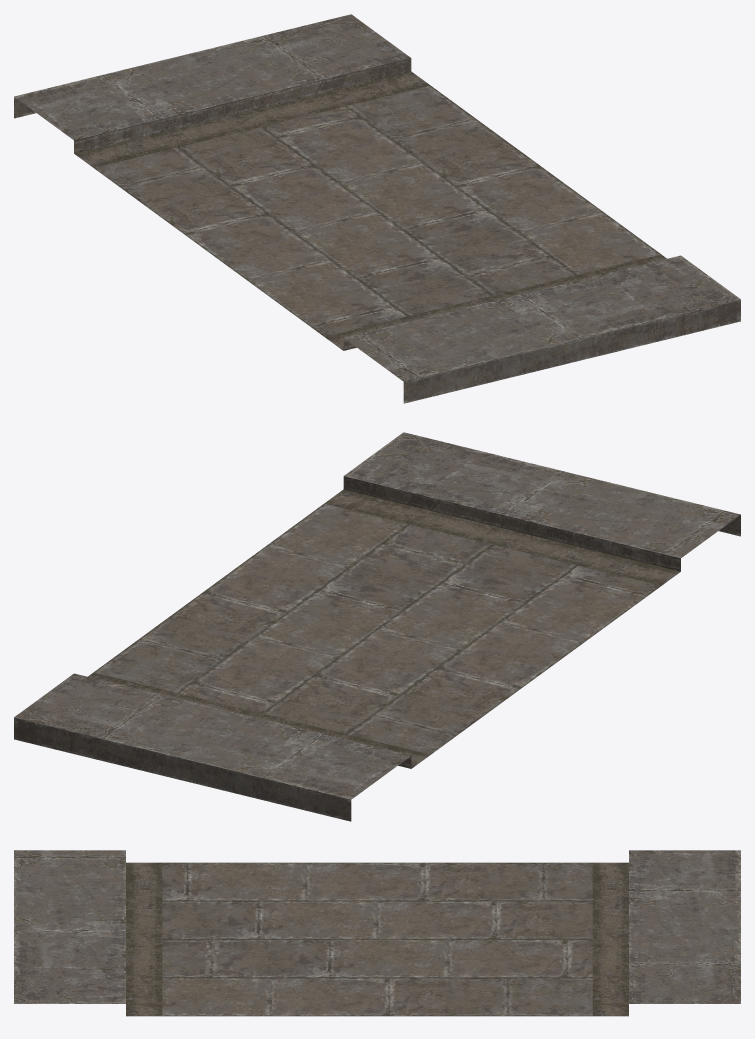
The model's file is Road.fbx.
The picture shows the model from 3 angles, top to bottom: view 1: azimuth 30°, elevation 25°; view 2: azimuth 150°, elevation 25°; view 3: azimuth 270°, elevation 25°; orthographic projection. The views are drawn at different scales.
Parts seen in each view (by area): view 1: Trim_Road_4x8; view 2: Trim_Road_4x8; view 3: Trim_Road_4x8.
Part boxes in pixels (x1,y1,x2,y2): Trim_Road_4x8: [14, 14, 740, 403]; Trim_Road_4x8: [14, 432, 740, 821]; Trim_Road_4x8: [14, 850, 740, 1016].
Bounding box in the file's own units: 400 × 25 × 800.
